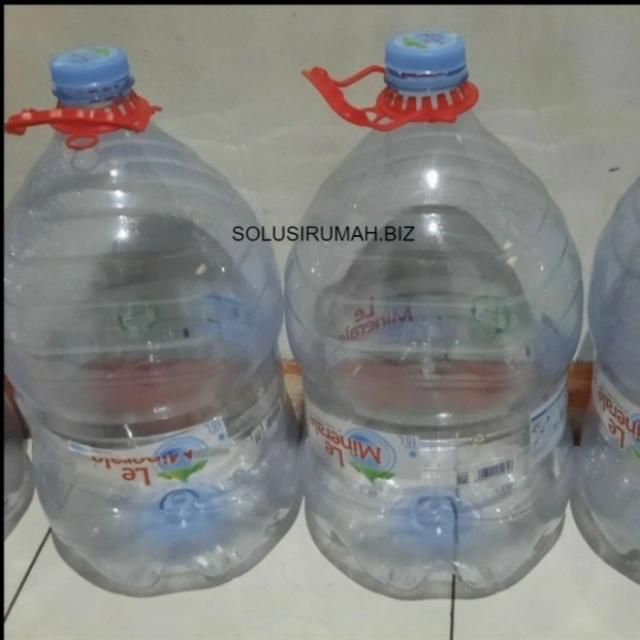Galon: (283, 29, 584, 600), (2, 44, 302, 597)
